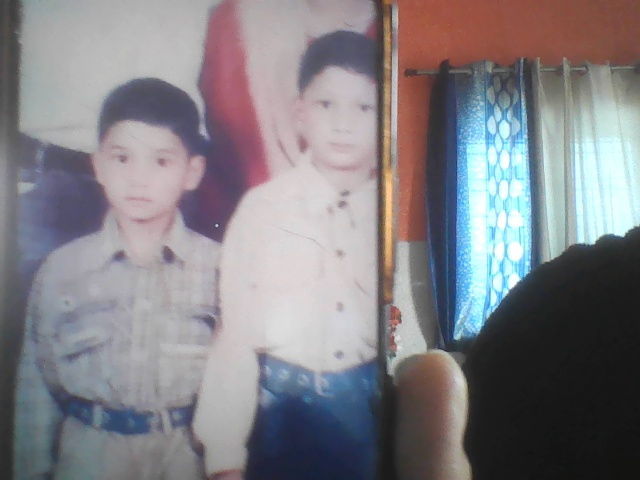fake: (93, 77, 208, 240)
